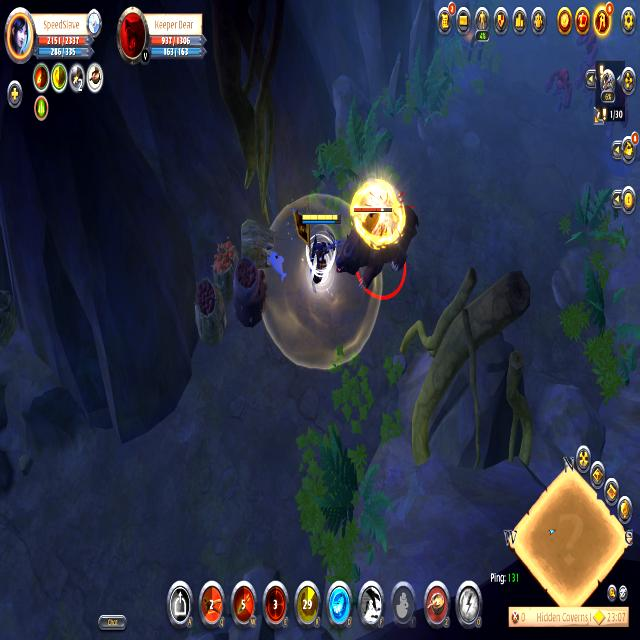ore: (338, 197, 419, 304), (544, 67, 573, 118), (578, 19, 604, 69)
red: (302, 210, 339, 294)
